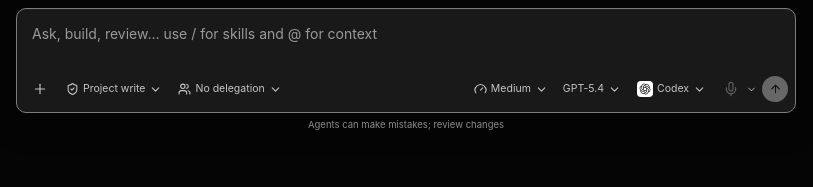
@-mention context suggestions › removes a committed @mention from its card
The width and height of the screenshot is (813, 187).
In the text box named "Task message": (406, 39) [17,9,795,69], type "review @package.json next"
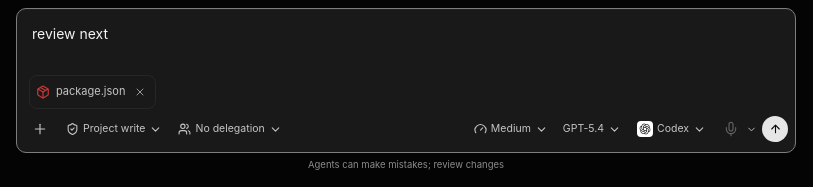
Check: the text box named "Task message" holds "review next", box [17,9,795,69]
Click the button named "Remove package.json": (140, 92) [131,83,149,101]
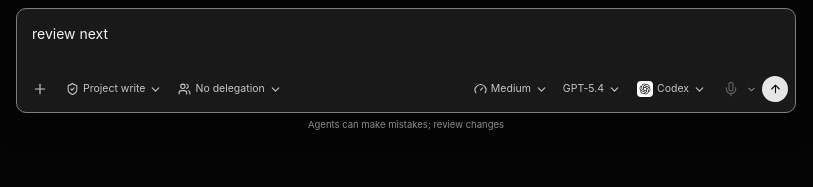
Check: the text "package.json" is gone
